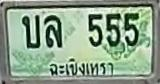5: (105, 12, 120, 47), (123, 12, 138, 46), (87, 13, 102, 46)
A26: (21, 14, 40, 48)
A36: (44, 15, 62, 48)
CCO: (47, 56, 115, 78)
